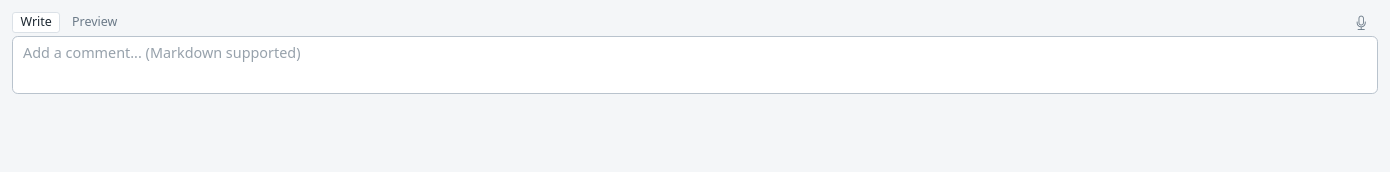
Test: CommentComposer voice recording › should show the voice button and the recording state with elapsed time
Click the button with class "composer-voice-btn": (1361,22) [1344,12,1378,33]
Wait 2000 ms
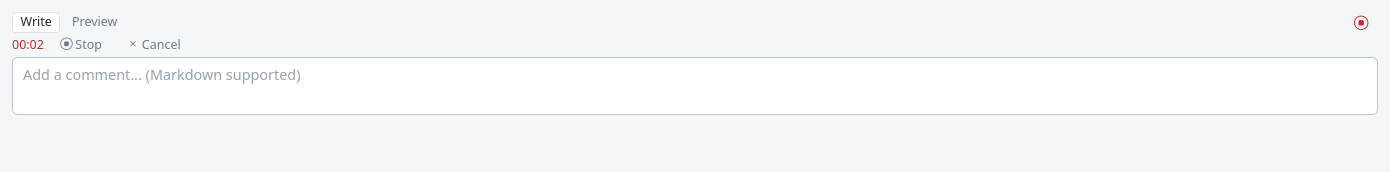
Result: the element with class "composer-voice-status" is shown at [12,36,189,54]
Result: the text with class "composer-voice-timer" reads "00:02" at [12,36,44,53]
